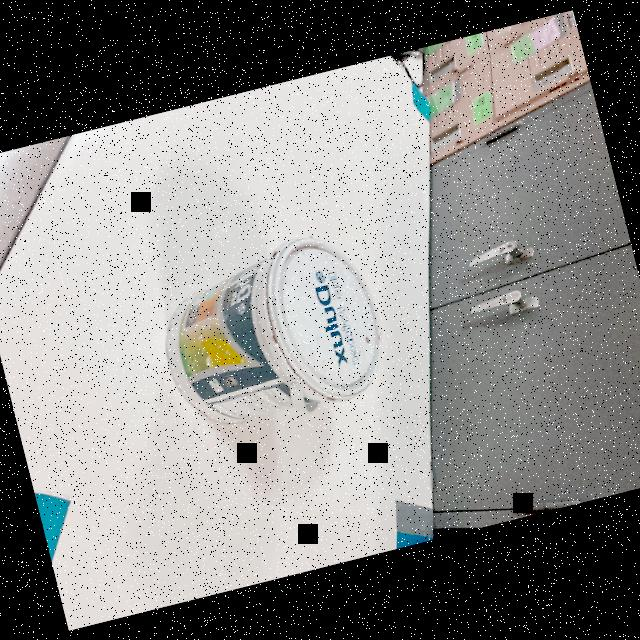paint_bucket: (141, 230, 397, 438)
